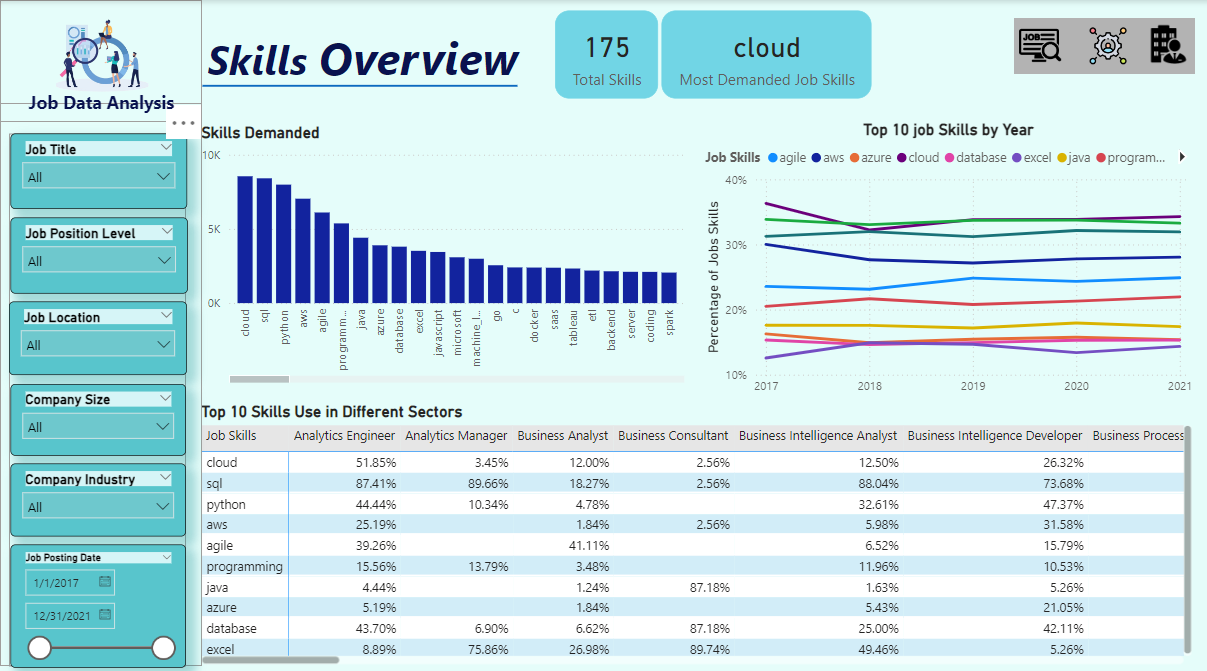

This screenshot's page, from the dashboard's own definition file:
{"tool":"powerbi","page":{"name":"Skills ","canvas":[1280,720],"ordinal":1},"visuals":[{"type":"image","box":[0,0,215.5,109.1],"z":0,"group":"g4"},{"type":"image","box":[1076,18.9,54.9,58.6],"z":0,"group":"g1"},{"type":"clusteredColumnChart","title":"Skills Demanded ","fields":{"Category":["Skills.Job Skills"],"Y":["_Measures.Total job Skills"]},"box":[208.7,130.6,522.2,280.6],"z":0},{"type":"image","box":[1151.1,21.6,49.4,52.2],"z":1000,"group":"g1"},{"type":"textbox","box":[14.2,90.4,186.2,39],"z":1000,"group":"g4"},{"type":"pivotTable","title":"Top 10 Skills Use in Different Sectors","fields":{"Rows":["Skills.Job Skills"],"Columns":["job_postings.Job Title"],"Values":["_Measures.percentage of Jobs Skills title"]},"box":[208.7,427.1,1060.4,283.1],"z":1000},{"type":"card","fields":{"Values":["_Measures.Unique Skills"]},"box":[587.9,10.5,109.4,93.6],"z":2000},{"type":"image","box":[1211.5,18.9,57.7,55.9],"z":2000,"group":"g1"},{"type":"lineChart","title":"Top 10 job Skills by Year","fields":{"Category":["job_postings.Year"],"Series":["Skills.Job Skills"],"Y":["_Measures.percentage of Jobs Skills title"]},"box":[743.6,127.3,525.9,299.8],"z":3000},{"type":"textbox","box":[215.5,22.2,351.1,82.5],"z":4000},{"type":"shape","box":[215.5,77.1,334.3,29.3],"z":5000},{"type":"group","id":"g1","title":"Group 2","box":[1076,18.9,192.5,58.9],"z":6000},{"type":"group","id":"g2","title":"Group 1","box":[8.9,141,189,565.7],"z":6000,"group":"g3"},{"type":"group","id":"g3","title":"Group 5","box":[0,0,215.5,706.7],"z":7000},{"type":"slicer","fields":{"Values":["job_postings.Job Title"]},"box":[9.9,141,187.1,79.8],"z":7500,"group":"g2"},{"type":"slicer","fields":{"Values":["job_postings.Job Position Level"]},"box":[9.9,229.7,188,80.7],"z":7750,"group":"g2"},{"type":"slicer","fields":{"Values":["job_postings.Job Location"]},"box":[8.9,319.2,188.9,78],"z":7875,"group":"g2"},{"type":"slicer","fields":{"Values":["job_postings.Company Size"]},"box":[9.8,407,186.2,76.3],"z":7937,"group":"g2"},{"type":"slicer","fields":{"Values":["job_postings.Company Industry"]},"box":[9.8,491.2,186.2,77.1],"z":7968,"group":"g2"},{"type":"slicer","fields":{"Values":["job_postings.Job Posting Date"]},"box":[10.8,576.4,186.2,130.3],"z":7984,"group":"g2"},{"type":"card","fields":{"Values":["Min(Skills.Job Skills)"]},"box":[701.5,10.5,223,93.6],"z":8000},{"type":"group","id":"g4","title":"Group 3","box":[0,0,215.5,129.5],"z":10003,"group":"g3"}]}

Visuals, with their boxes in screenshot pixels (x1, y1, x2, y2), scaled from the page's 1280x720 canvas onto the 1207x671 screenshot:
image: region(0, 0, 203, 102)
image: region(1015, 18, 1066, 72)
"Skills Demanded " clusteredColumnChart: region(197, 122, 689, 383)
image: region(1085, 20, 1132, 69)
textbox: region(13, 84, 189, 121)
"Top 10 Skills Use in Different Sectors" pivotTable: region(197, 398, 1197, 662)
card - _Measures.Unique Skills: region(554, 10, 658, 97)
image: region(1142, 18, 1197, 70)
"Top 10 job Skills by Year" lineChart: region(701, 119, 1197, 398)
textbox: region(203, 21, 534, 98)
shape: region(203, 72, 518, 99)
"Group 2" group: region(1015, 18, 1196, 73)
"Group 1" group: region(8, 131, 187, 659)
"Group 5" group: region(0, 0, 203, 659)
slicer - job_postings.Job Title: region(9, 131, 186, 206)
slicer - job_postings.Job Position Level: region(9, 214, 187, 289)
slicer - job_postings.Job Location: region(8, 297, 187, 370)
slicer - job_postings.Company Size: region(9, 379, 185, 450)
slicer - job_postings.Company Industry: region(9, 458, 185, 530)
slicer - job_postings.Job Posting Date: region(10, 537, 186, 659)
card - Min(Skills.Job Skills): region(661, 10, 872, 97)
"Group 3" group: region(0, 0, 203, 121)
